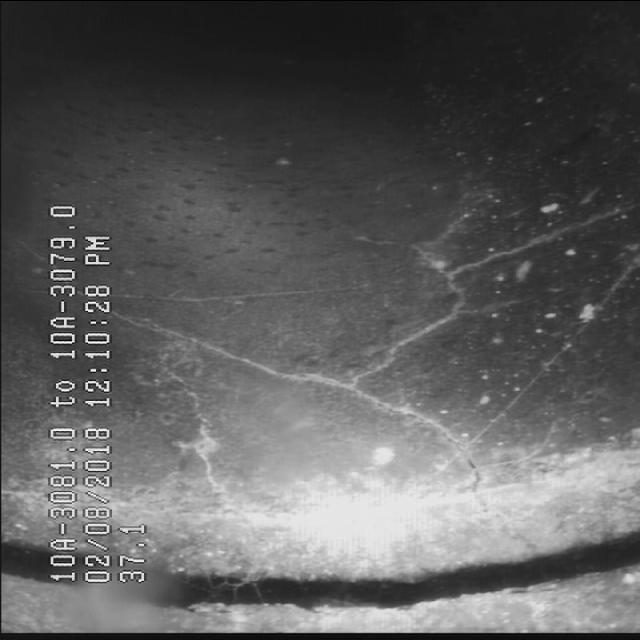Crack: (176, 244, 513, 488)
